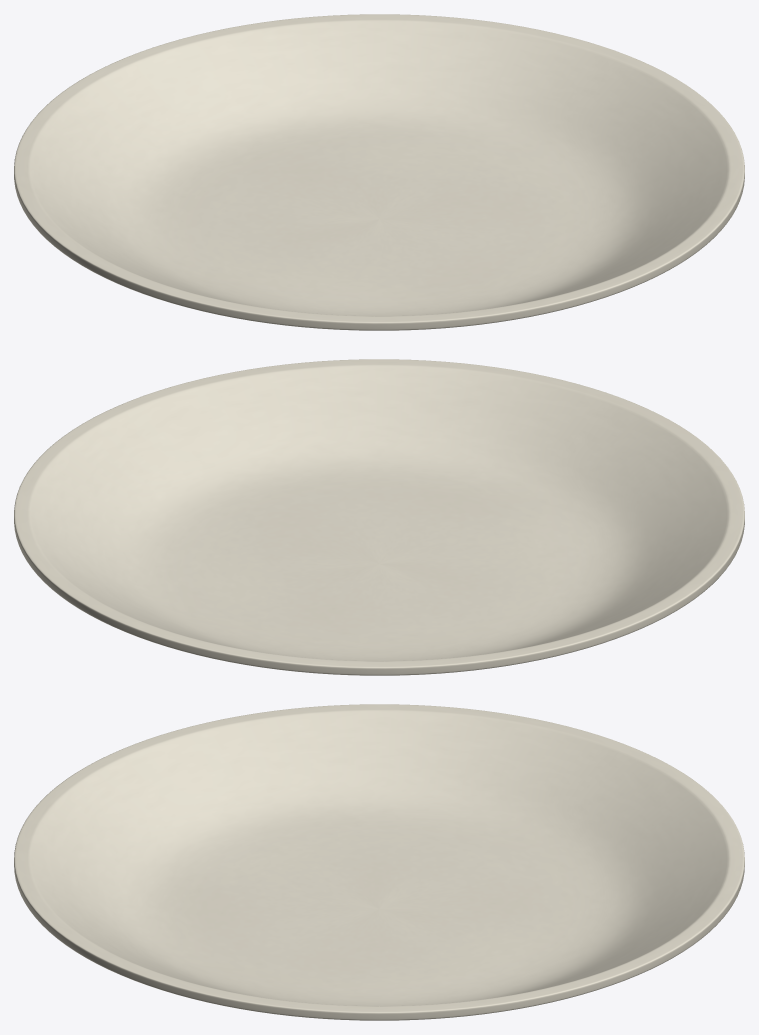
The picture shows the model from 3 angles, top to bottom: view 1: azimuth 30°, elevation 25°; view 2: azimuth 150°, elevation 25°; view 3: azimuth 270°, elevation 25°; orthographic projection.
Parts seen in each view (by area): view 1: world; view 2: world; view 3: world.
Part boxes in pixels (x1,y1,x2,y2): world: (14, 14, 744, 330); world: (14, 359, 744, 675); world: (14, 704, 744, 1020).
Bounding box in the file's own units: 0.28 × 0.025 × 0.28.
1 material, 1 textured.
